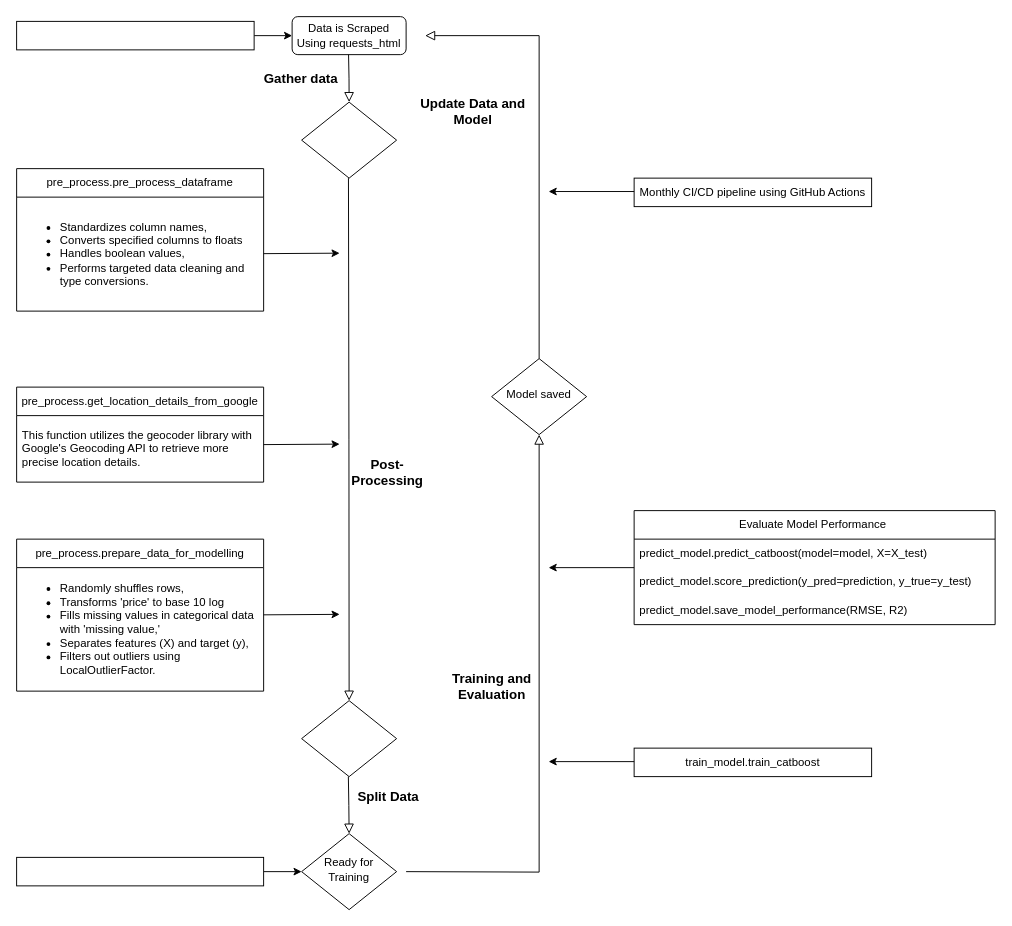
Image size: 1012x926. Some labels were removed from this diagram. The shapes that lost their labels are listed below. From the top down, each one's centre as x and y in pixels, then its label:
At point (135, 35): "make_dataset.ImmowebScraper".
At point (349, 139): "Raw data collected".
At point (349, 738): "Processed data is ready".
At point (140, 871): "model_selection.train_test_split".
